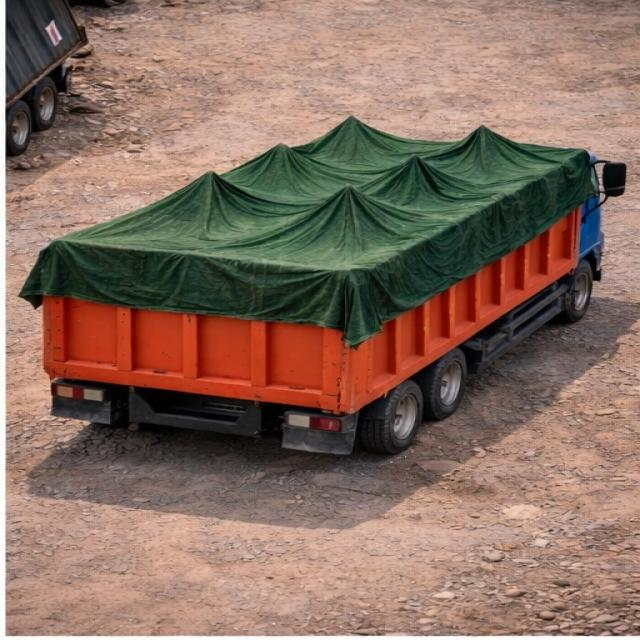trailer: (47, 112, 602, 278)
truck: (21, 88, 630, 460)
